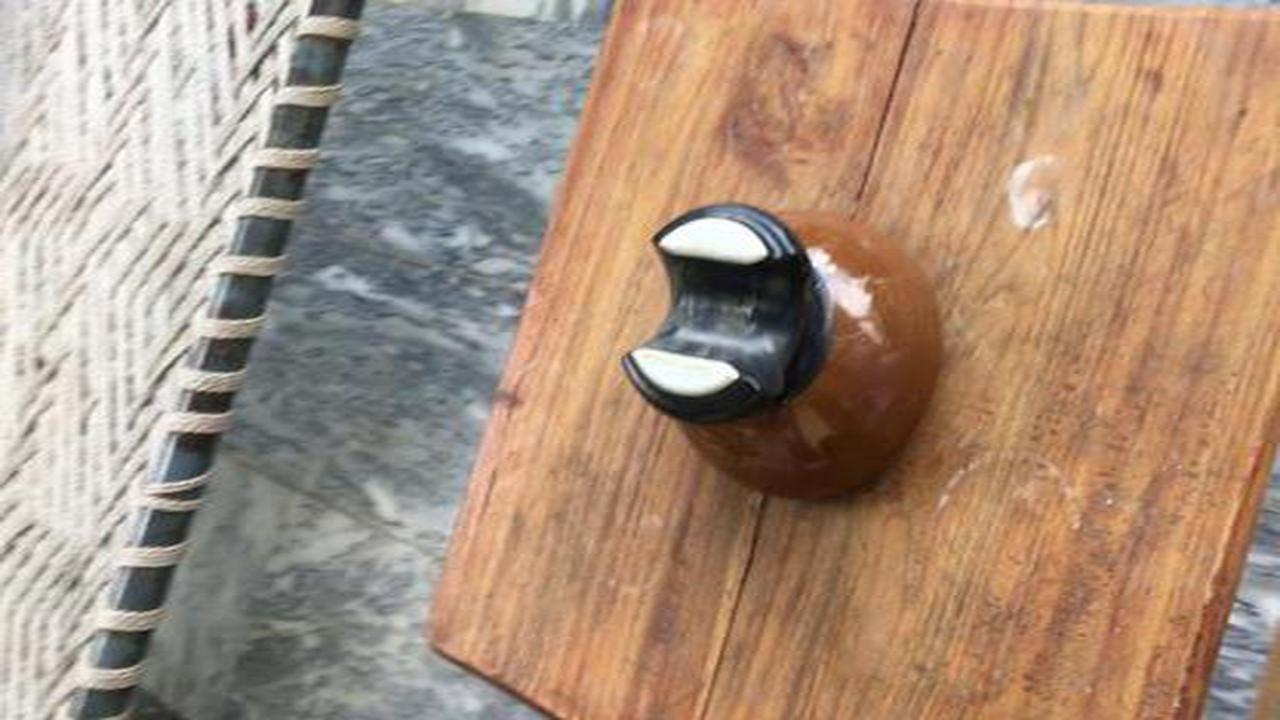insulator_pin: (597, 193, 973, 520)
